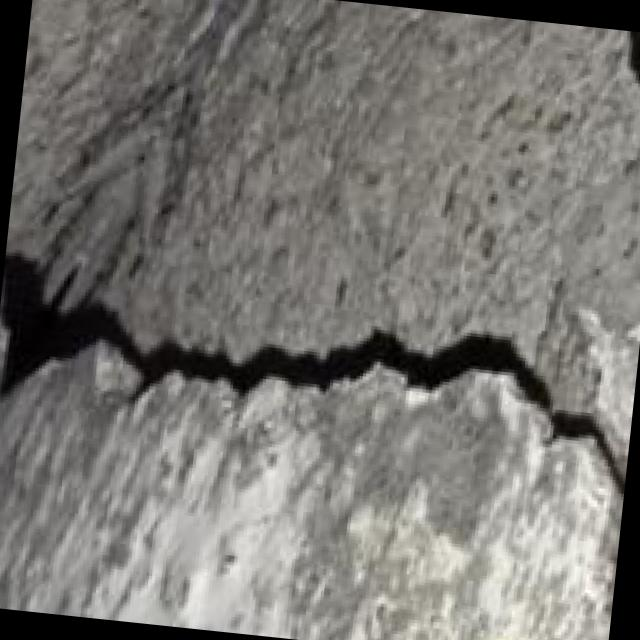crack: (0, 214, 636, 559)
